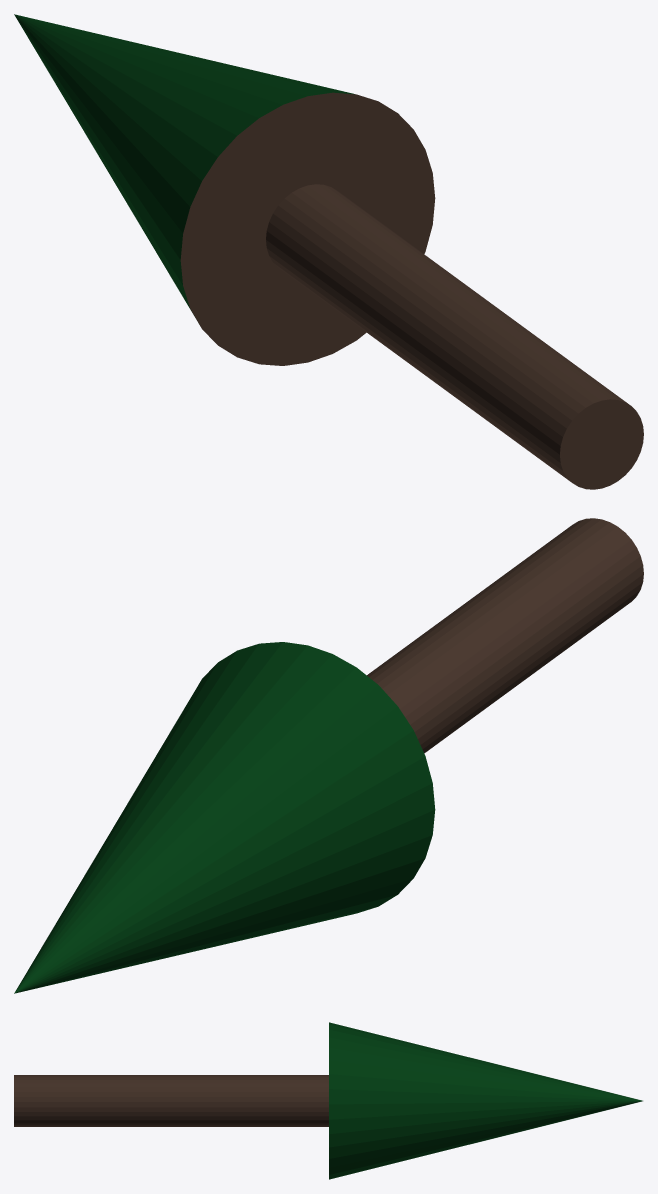
The model's file is simpletree.dae.
The picture shows the model from 3 angles, top to bottom: view 1: azimuth 30°, elevation 25°; view 2: azimuth 150°, elevation 25°; view 3: azimuth 270°, elevation 25°; orthographic projection. The views are drawn at different scales.
Parts seen in each view (by area): view 1: Cone.022; view 2: Cone.022; view 3: Cone.022.
Boxes of the visible parts, bbox=[...] form: Cone.022: bbox=[14, 14, 643, 489]; Cone.022: bbox=[14, 518, 643, 993]; Cone.022: bbox=[14, 1022, 642, 1179].
Size of the model in its own units: 4 by 16 by 4.
